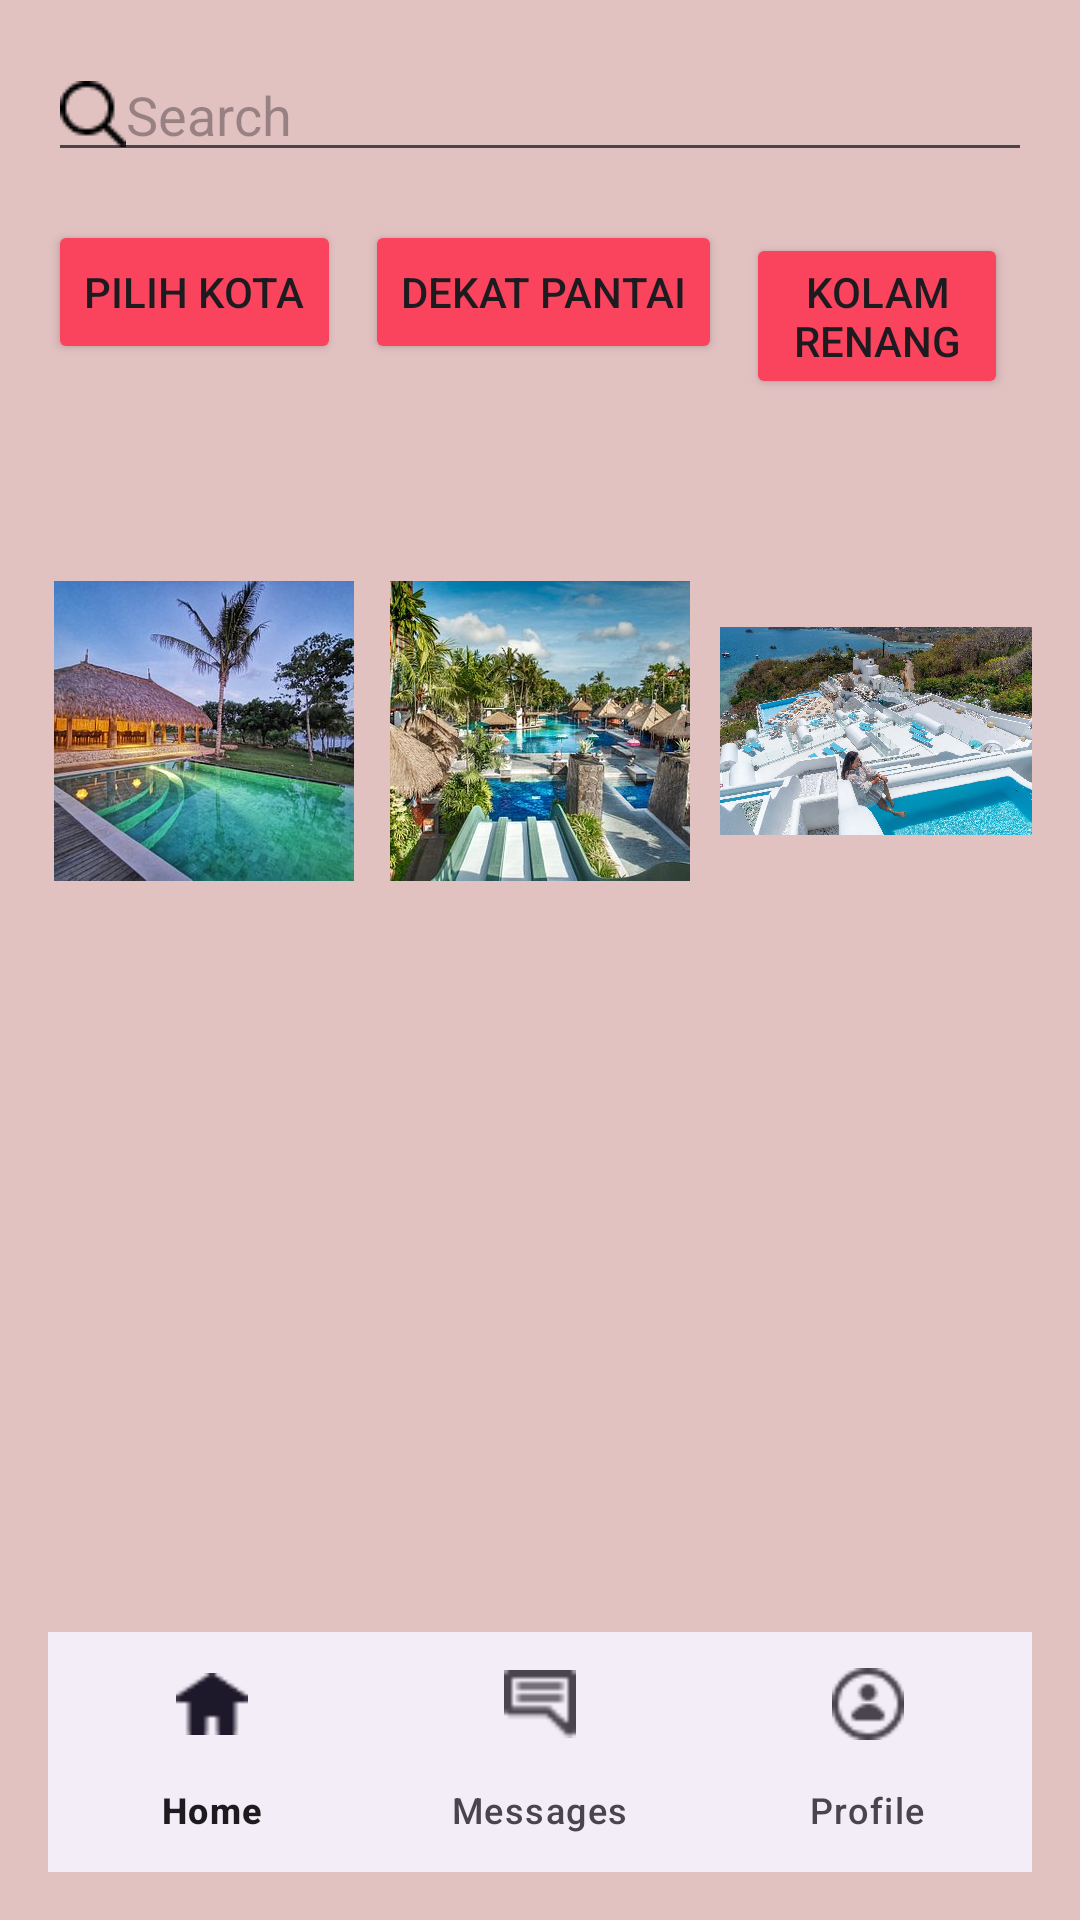

Where to tap for icons on this 1080px×1920px app screen, as [x,y]:
Image 1: [204,731]
Image 2: [540,731]
Image 3: [876,731]
